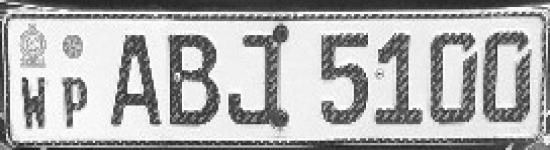0: (481, 24, 536, 132), (429, 23, 480, 130)
1: (375, 24, 429, 135)
5: (312, 25, 374, 133)
A: (108, 27, 165, 133)
B: (165, 28, 222, 134)
J: (223, 27, 292, 134)
P: (58, 72, 92, 133)
W: (16, 72, 53, 131)
